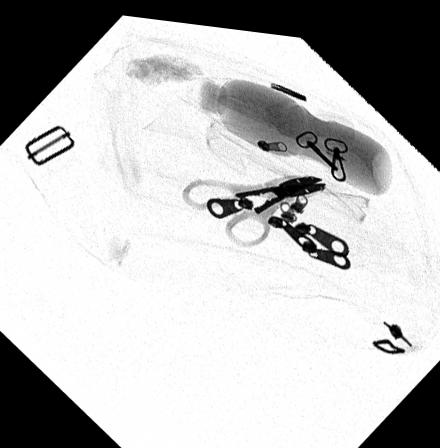Scissors: (178, 165, 329, 245)
